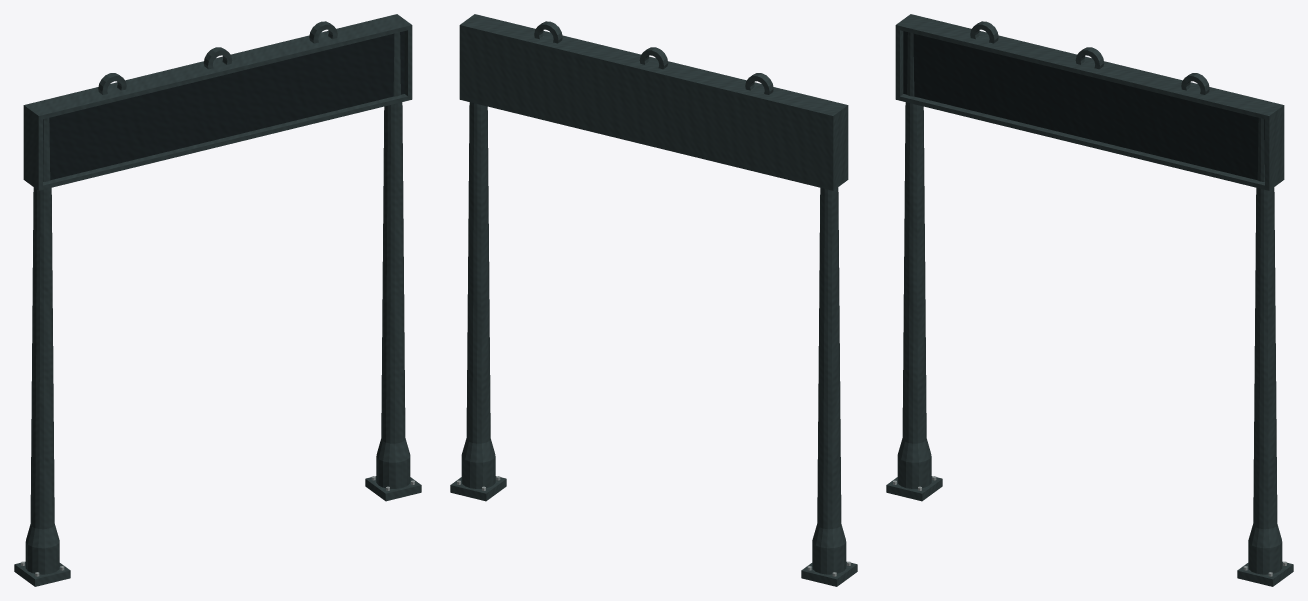
The picture shows the model from 3 angles, left to right: view 1: azimuth 30°, elevation 25°; view 2: azimuth 150°, elevation 25°; view 3: azimuth 330°, elevation 25°; orthographic projection.
Parts seen in each view (by area): view 1: B022-03_display_dark, B022-03_mast_iron, B022-03_housing_iron, B022-03_base_iron, B022-03_frame_iron; view 2: B022-03_housing_iron, B022-03_mast_iron, B022-03_base_iron, B022-03_frame_iron; view 3: B022-03_display_dark, B022-03_mast_iron, B022-03_housing_iron, B022-03_base_iron, B022-03_frame_iron.
Boxes of the visible parts, left/top/right/bottom form: B022-03_display_dark: left=43, top=31, right=404, bottom=180; B022-03_mast_iron: left=25, top=32, right=410, bottom=574; B022-03_housing_iron: left=23, top=14, right=412, bottom=190; B022-03_base_iron: left=14, top=476, right=421, bottom=586; B022-03_frame_iron: left=98, top=21, right=337, bottom=94; B022-03_housing_iron: left=459, top=14, right=848, bottom=190; B022-03_mast_iron: left=461, top=102, right=846, bottom=574; B022-03_base_iron: left=450, top=476, right=857, bottom=586; B022-03_frame_iron: left=534, top=21, right=773, bottom=94; B022-03_display_dark: left=903, top=31, right=1264, bottom=180; B022-03_mast_iron: left=897, top=32, right=1282, bottom=574; B022-03_housing_iron: left=895, top=14, right=1284, bottom=190; B022-03_base_iron: left=886, top=476, right=1293, bottom=586; B022-03_frame_iron: left=970, top=21, right=1209, bottom=94.
Size of the model in its own units: 2.38 by 2.85 by 0.22.
3 materials, 3 textured.
